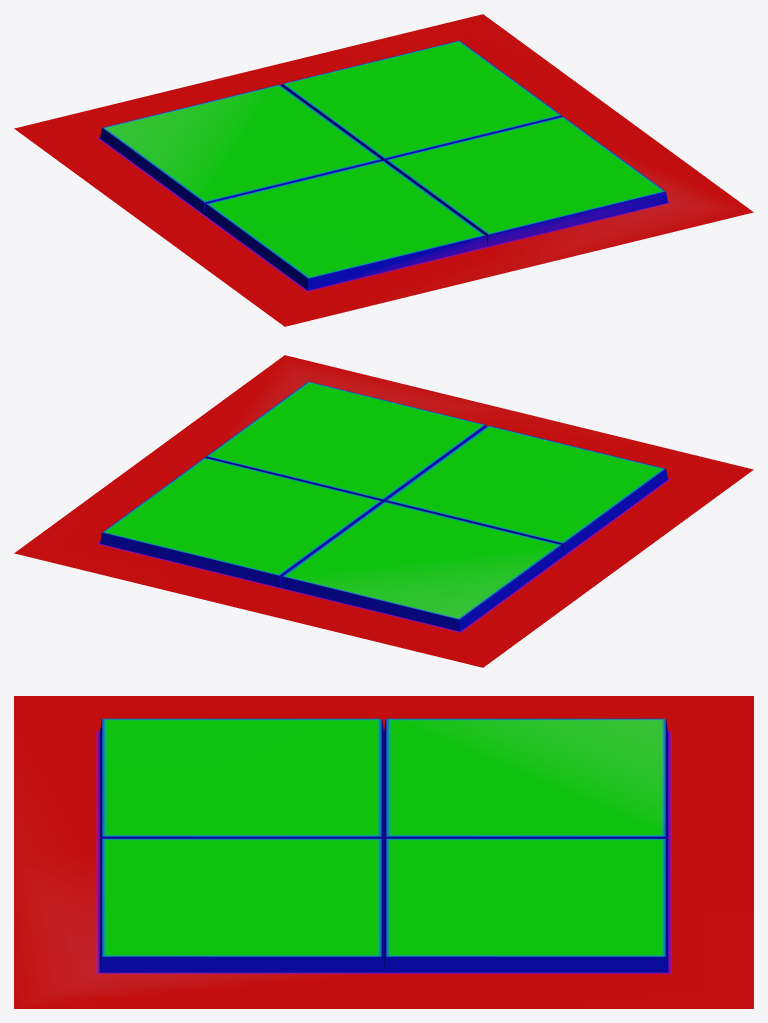
The model's file is example.fbx.
The picture shows the model from 3 angles, top to bottom: view 1: azimuth 30°, elevation 25°; view 2: azimuth 150°, elevation 25°; view 3: azimuth 270°, elevation 25°; orthographic projection. The views are drawn at different scales.
Visible parts, largest first — view 1: Plane; view 2: Plane; view 3: Plane.
Boxes of the visible parts, x1,y1,x2,y2 form: Plane: (14, 14, 753, 326); Plane: (14, 355, 753, 667); Plane: (14, 696, 753, 1008).
Size of the model in its own units: 260 by 5.75 by 260.
